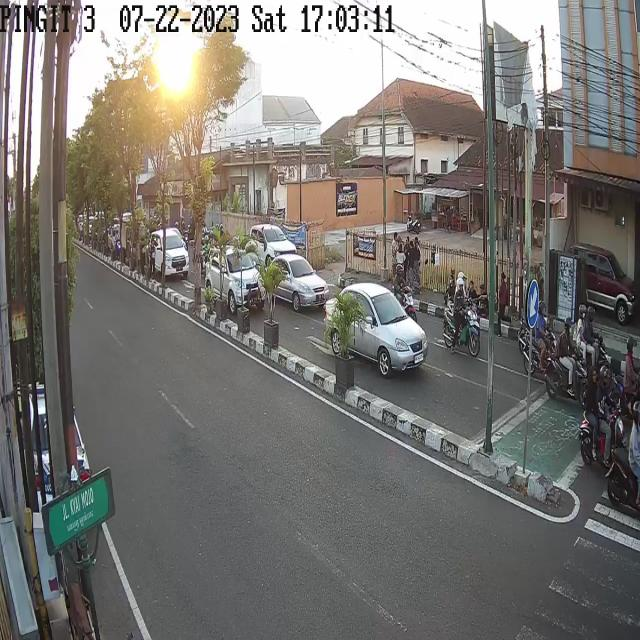car: (324, 280, 428, 378), (575, 245, 636, 327), (265, 254, 332, 314), (205, 248, 265, 312), (149, 230, 188, 277), (251, 224, 304, 257)
motorcycle: (578, 364, 624, 465), (546, 311, 586, 405), (608, 397, 640, 508), (447, 278, 476, 352), (526, 306, 554, 374), (394, 262, 415, 334)
